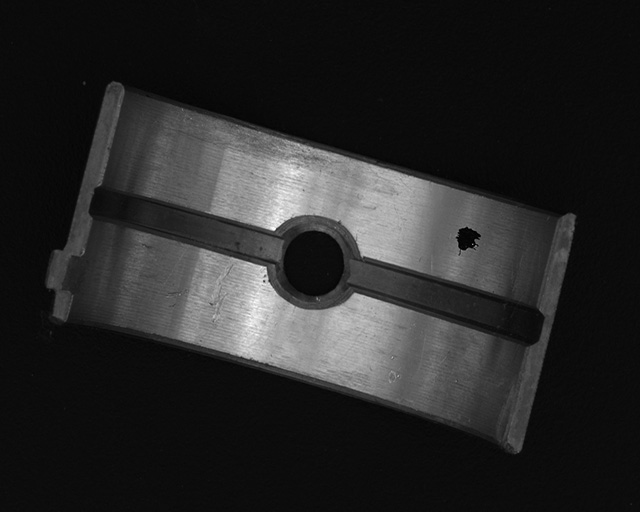blot: (454, 225, 483, 256)
bruise: (164, 288, 188, 310), (386, 369, 400, 386)
gap: (347, 257, 539, 343), (88, 188, 282, 263)
hole: (270, 214, 357, 309)
nick: (208, 257, 236, 324)
scratch: (175, 107, 345, 172)
